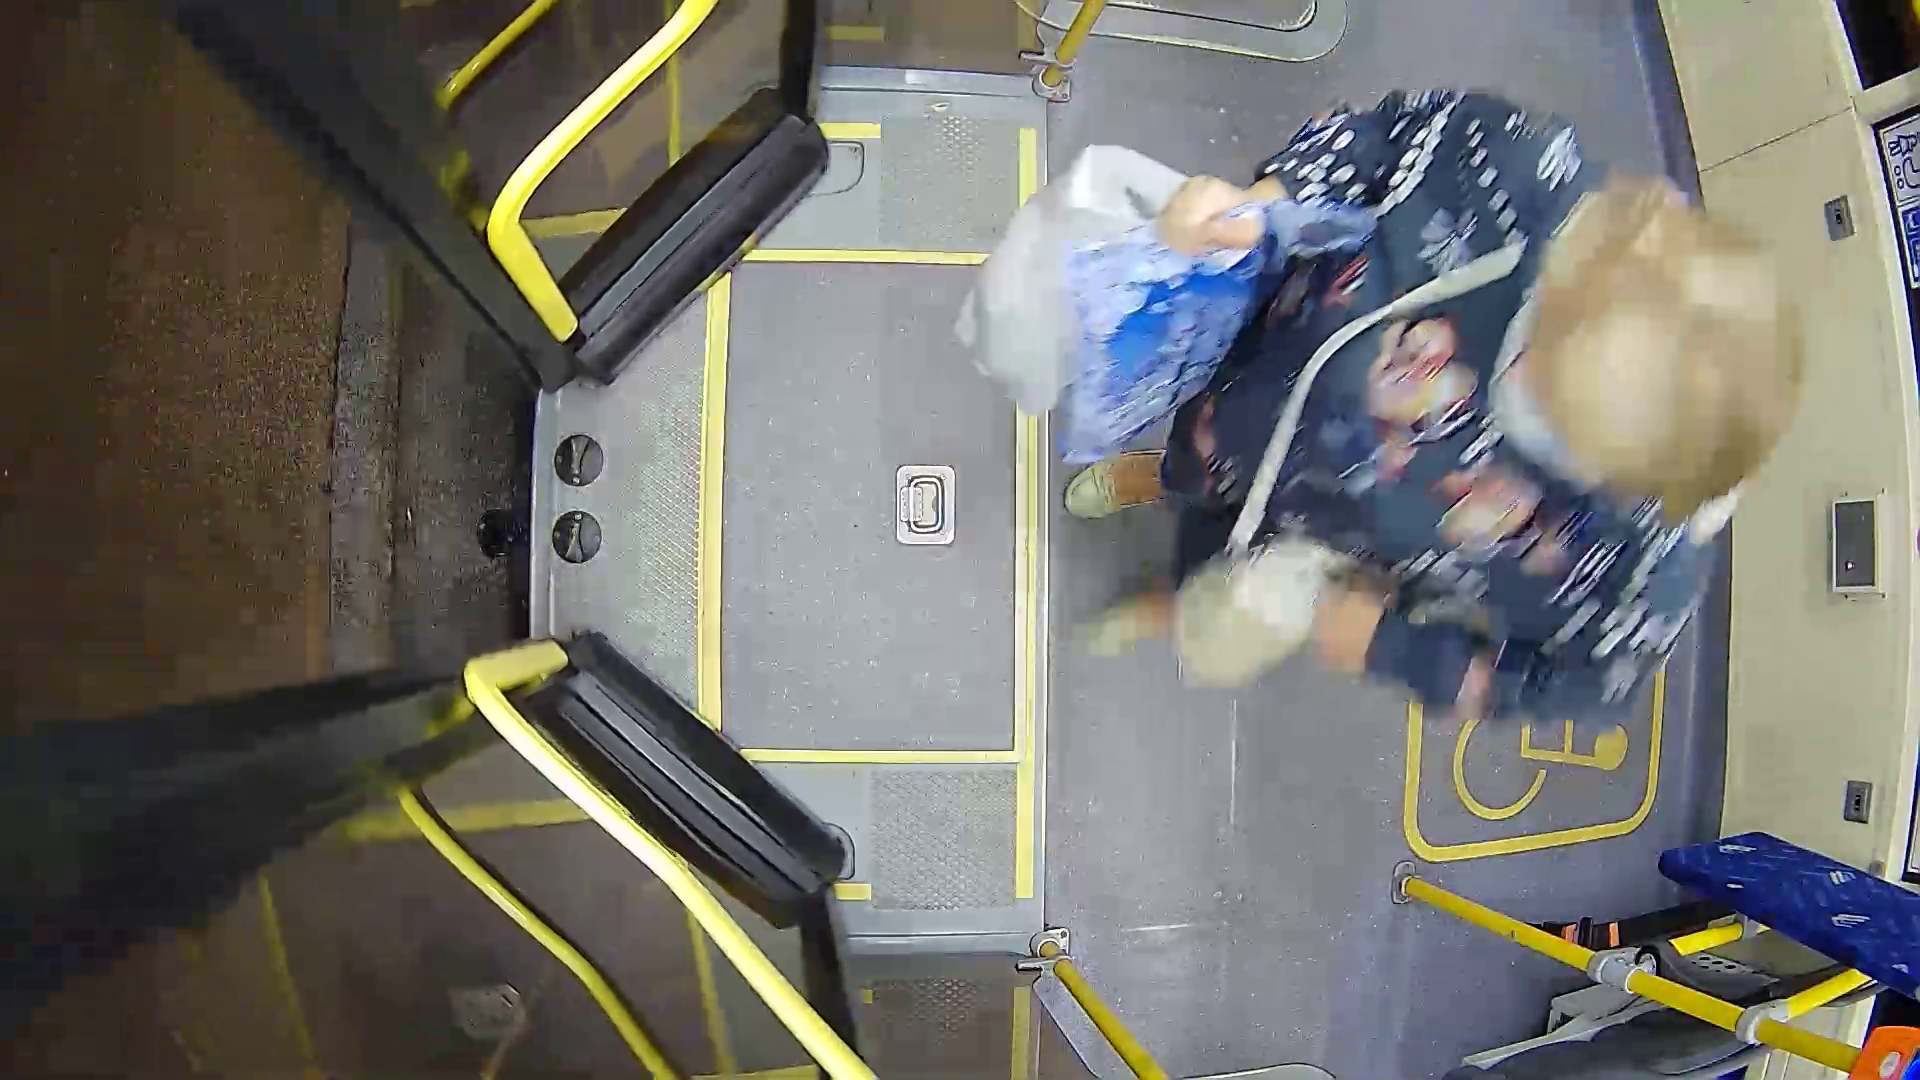person: (1033, 70, 1807, 735)
